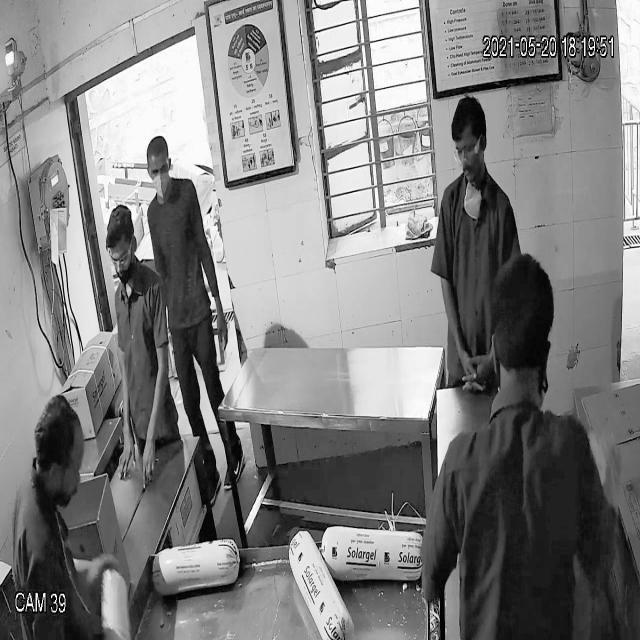hairnet: (115, 254, 140, 288)
mask: (150, 166, 173, 202)
no_apron: (119, 442, 141, 483), (141, 443, 159, 491)
no_gloves: (484, 253, 556, 387), (33, 393, 84, 471), (448, 96, 488, 151), (101, 202, 134, 249), (146, 137, 170, 167)
no_hairnet: (458, 150, 483, 187)
